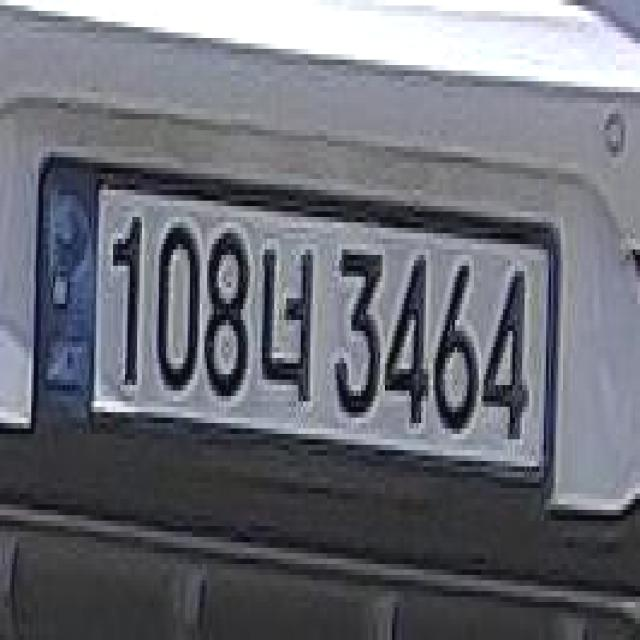illegal_plate: (34, 146, 564, 512)
